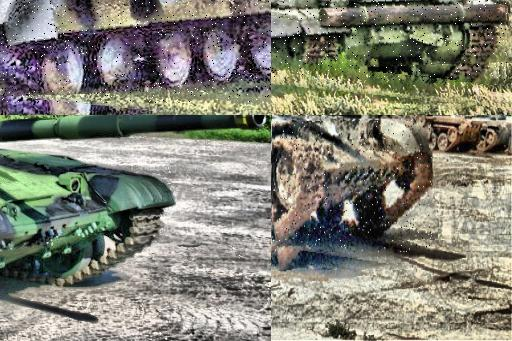tanks: (1, 1, 272, 104), (1, 151, 176, 287), (273, 120, 432, 253), (272, 1, 507, 75), (376, 116, 483, 151)
